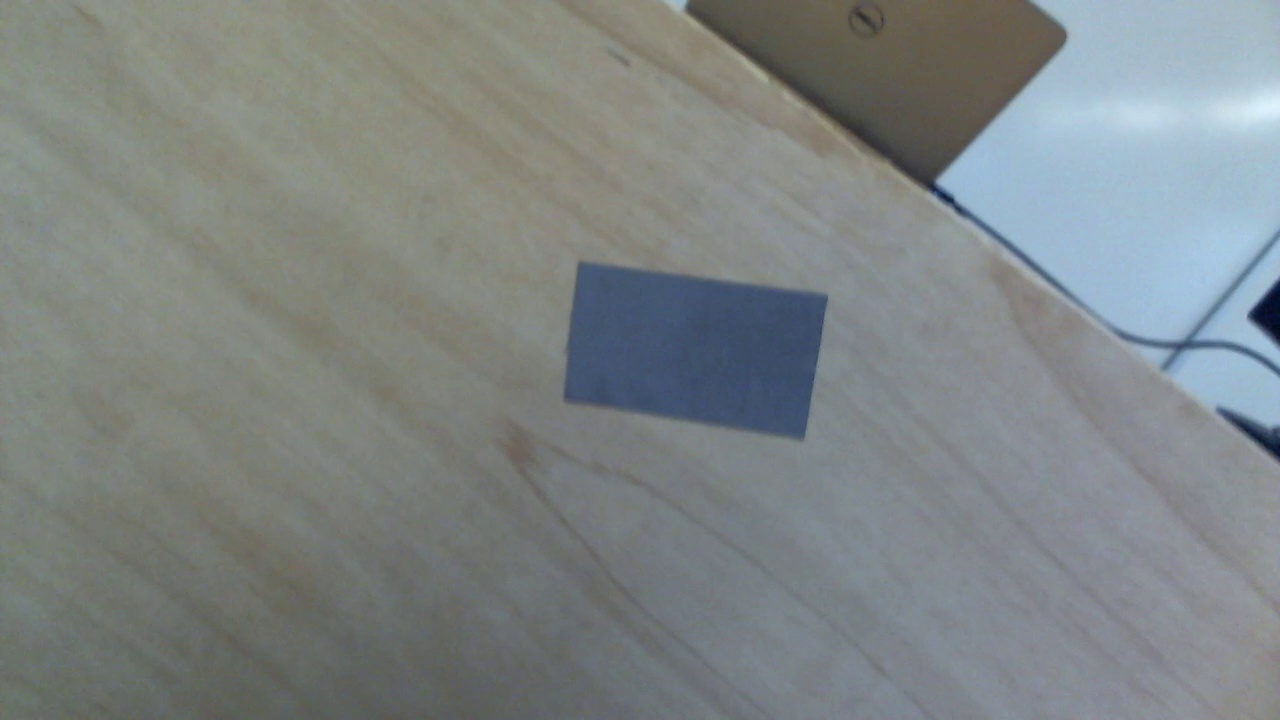Tape: (565, 260, 829, 439)
